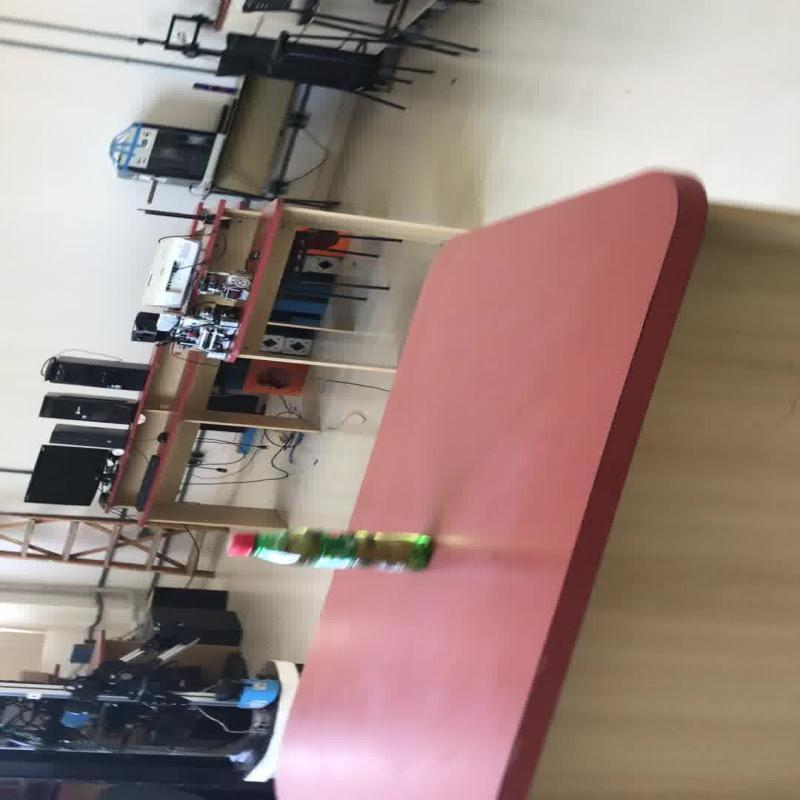guarana: (224, 526, 434, 572)
